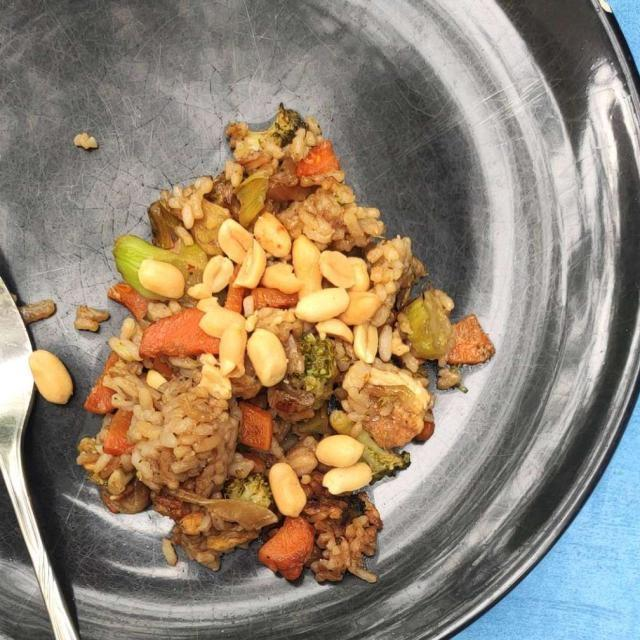fried-rice: (74, 99, 500, 584)
